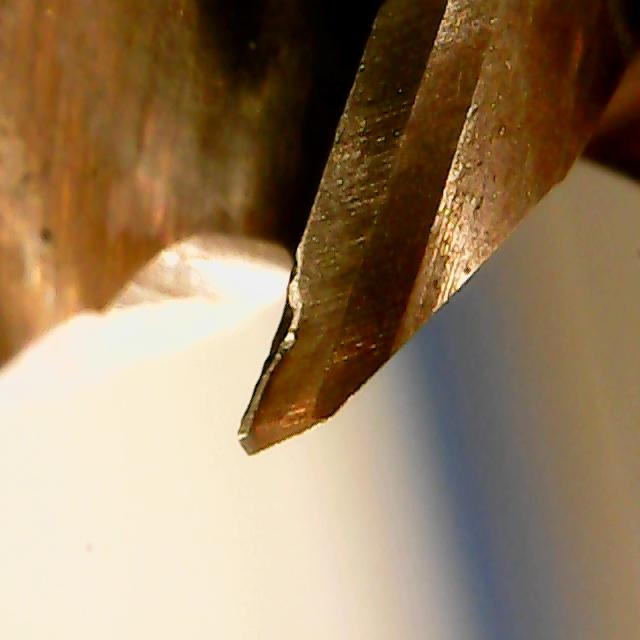Tool-wear-class-1: (228, 155, 388, 480)
